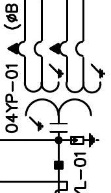115_cvt_1p: (7, 39, 106, 133)
115_la: (70, 132, 100, 148)
